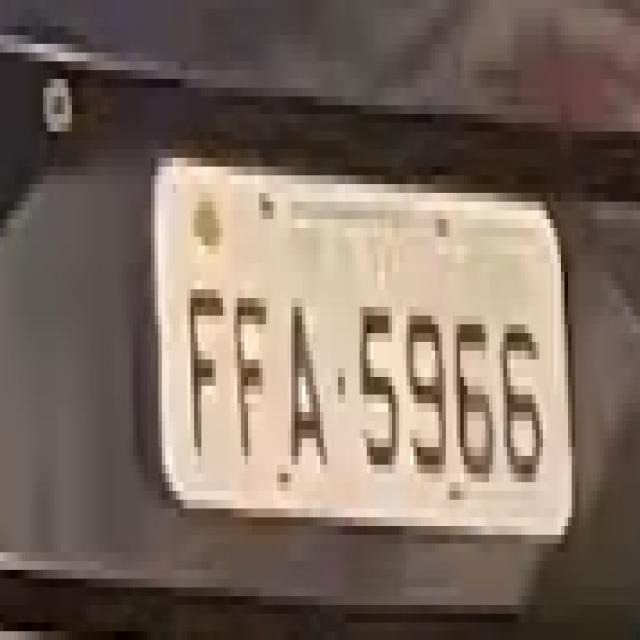Placa_mercosul_carro: (151, 148, 575, 537)
